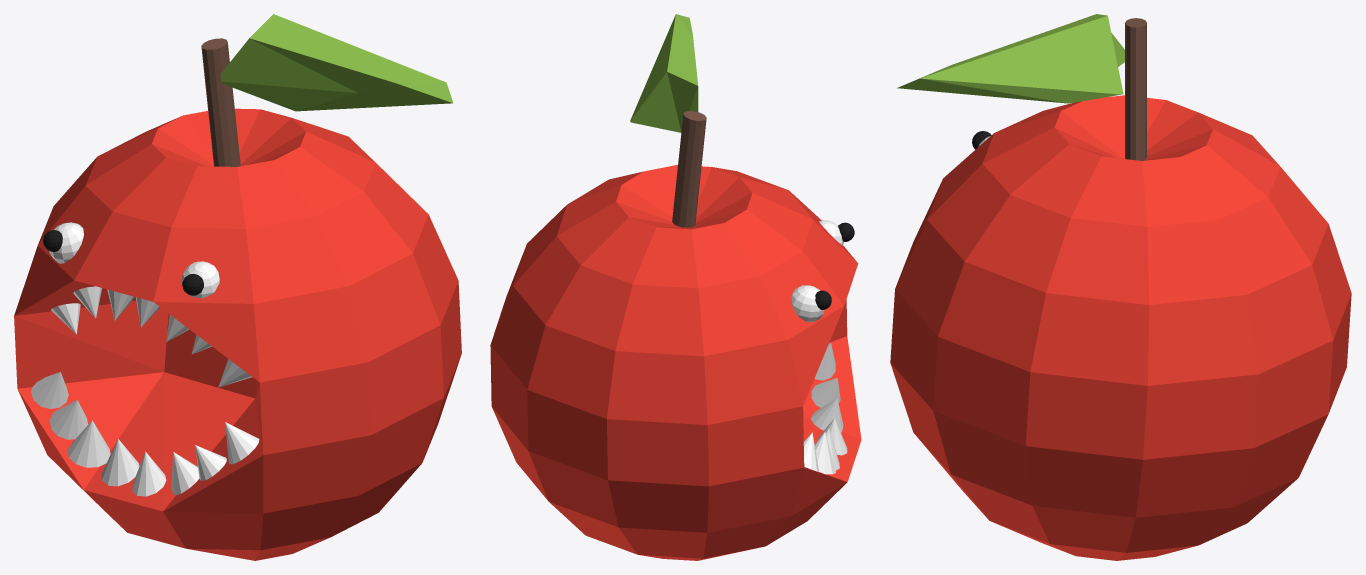
File: Shark apple.glb
The picture shows the model from 3 angles, left to right: view 1: azimuth 30°, elevation 25°; view 2: azimuth 150°, elevation 25°; view 3: azimuth 270°, elevation 25°; orthographic projection. The views are drawn at different scales.
Visible parts, largest first — view 1: group1748985546, group1362834629, group1544074189, group806463551, group2103304139, group1009427156, group1473236569, group708586271, group215058268, group308988237, group2043722756, group1395368339 (+1 smaller); view 2: group1748985546, group1362834629, group1544074189, group308988237, group2043722756, group1515311910, group806463551, group215058268; view 3: group1748985546, group1362834629, group1544074189.
Part boxes in pixels (x1,y1,x2,y2): group1748985546: [14, 108, 461, 560]; group1362834629: [220, 14, 453, 111]; group1544074189: [201, 38, 240, 166]; group806463551: [67, 420, 110, 467]; group2103304139: [101, 439, 139, 486]; group1009427156: [49, 400, 88, 439]; group1473236569: [31, 372, 68, 408]; group708586271: [132, 451, 166, 496]; group215058268: [225, 422, 259, 464]; group308988237: [49, 222, 83, 263]; group2043722756: [171, 452, 199, 495]; group1395368339: [182, 261, 219, 298]; group1748985546: [490, 165, 861, 560]; group1362834629: [630, 14, 698, 132]; group1544074189: [672, 111, 706, 227]; group308988237: [791, 285, 824, 322]; group2043722756: [810, 398, 843, 432]; group1515311910: [811, 378, 840, 407]; group806463551: [814, 432, 835, 474]; group215058268: [814, 343, 835, 380]; group1748985546: [890, 95, 1351, 560]; group1362834629: [897, 14, 1124, 103]; group1544074189: [1125, 18, 1146, 160].
Bounding box in the file's own units: 0.773 × 1.03 × 0.8099.
